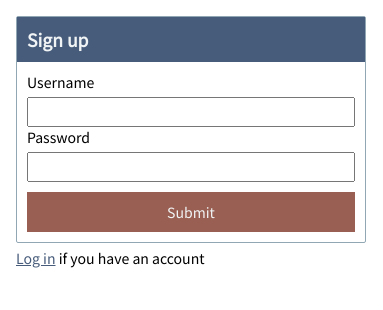
Test: SignupForm › displays an error if signup is unsuccessful
Step 1. Type "steve" into the field labelled "Username" → {"x": 191, "y": 112}, box 27,97 -> 355,127
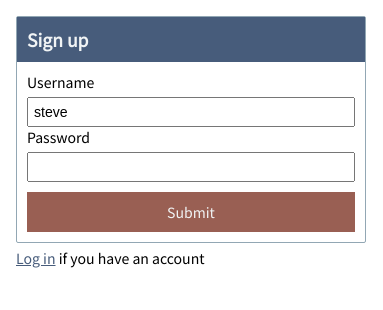
Step 2. Type "1Abcdefgh2" into the password field labelled "Password" → {"x": 191, "y": 167}, box 27,152 -> 355,182
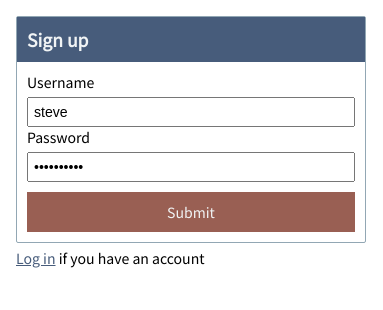
Step 3. Click the button "Submit" → {"x": 191, "y": 212}, box 27,192 -> 355,232
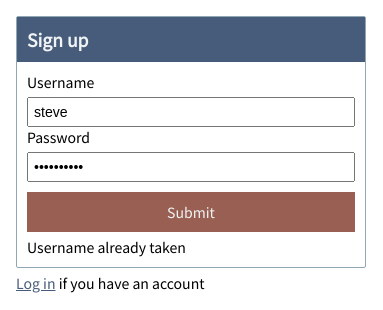
Expected: the text "Username already taken" is shown, 27,237 -> 186,257
